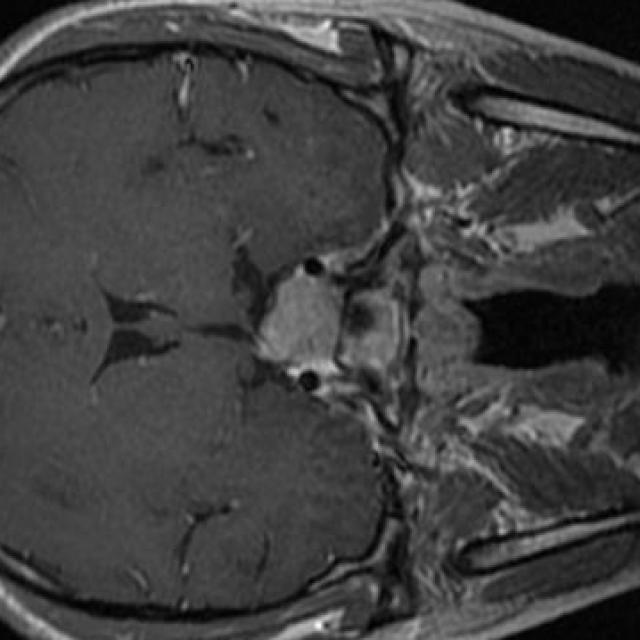pituitary: (258, 269, 341, 365)
